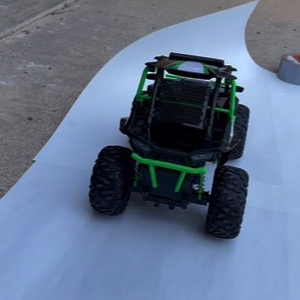polaris: (88, 52, 251, 241)
